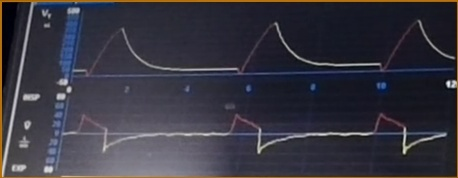Flow: (66, 111, 446, 167)
Leakage Volume: (75, 17, 454, 81)
